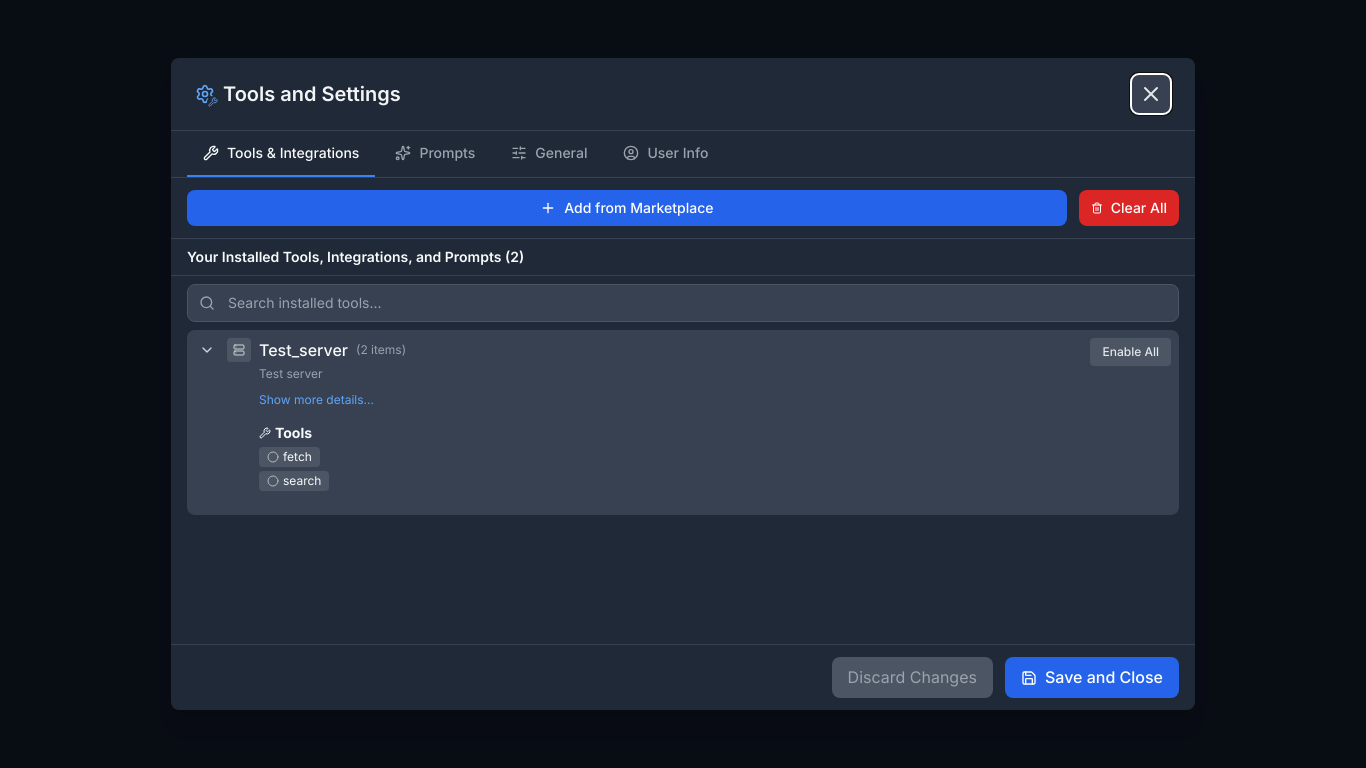
Scenario: combined panel close guard, against the real ToolsPanel › raises the unsaved-changes dialog when closing with staged selections
Click the button "fetch": x=289, y=457 [259, 447, 320, 467]
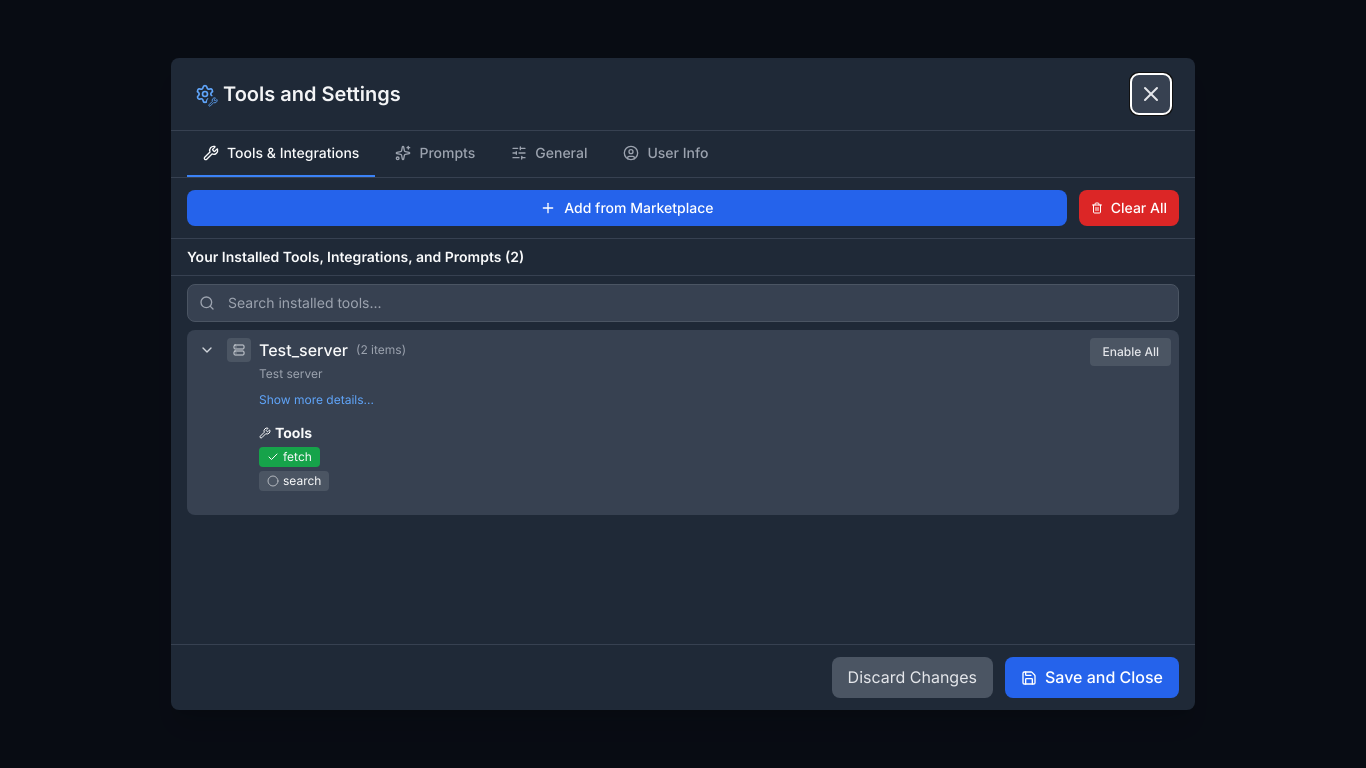
Click the button named "Close tools and settings": x=1151, y=94 [1131, 74, 1171, 114]
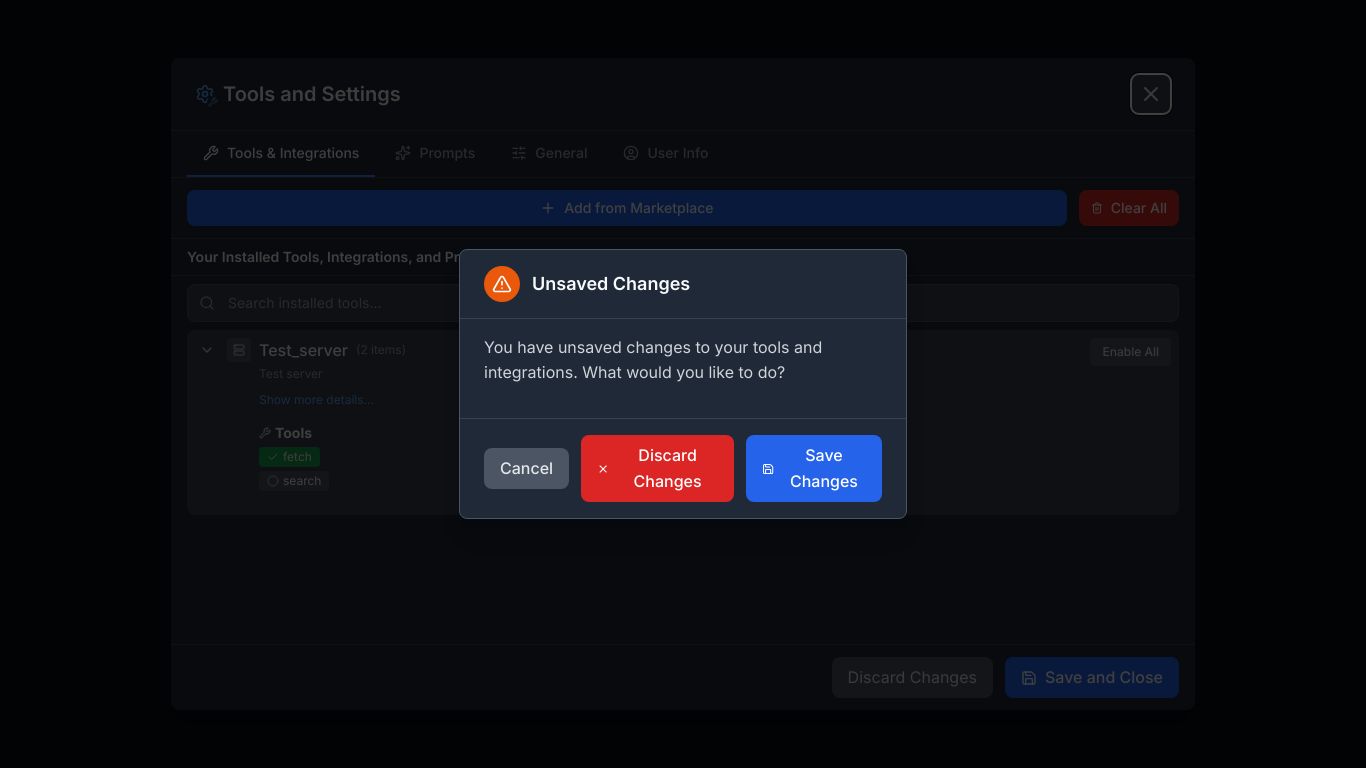
Expected: the dialog "Unsaved Changes" is shown
